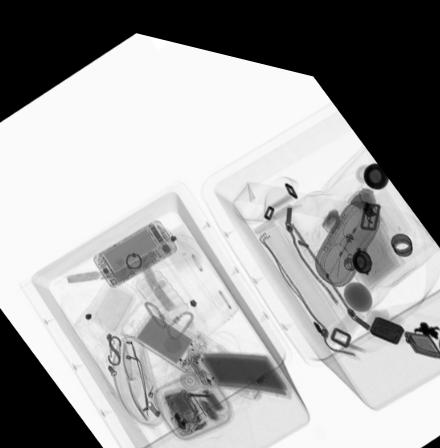Powerbank: (130, 301, 206, 363), (187, 339, 291, 381)
